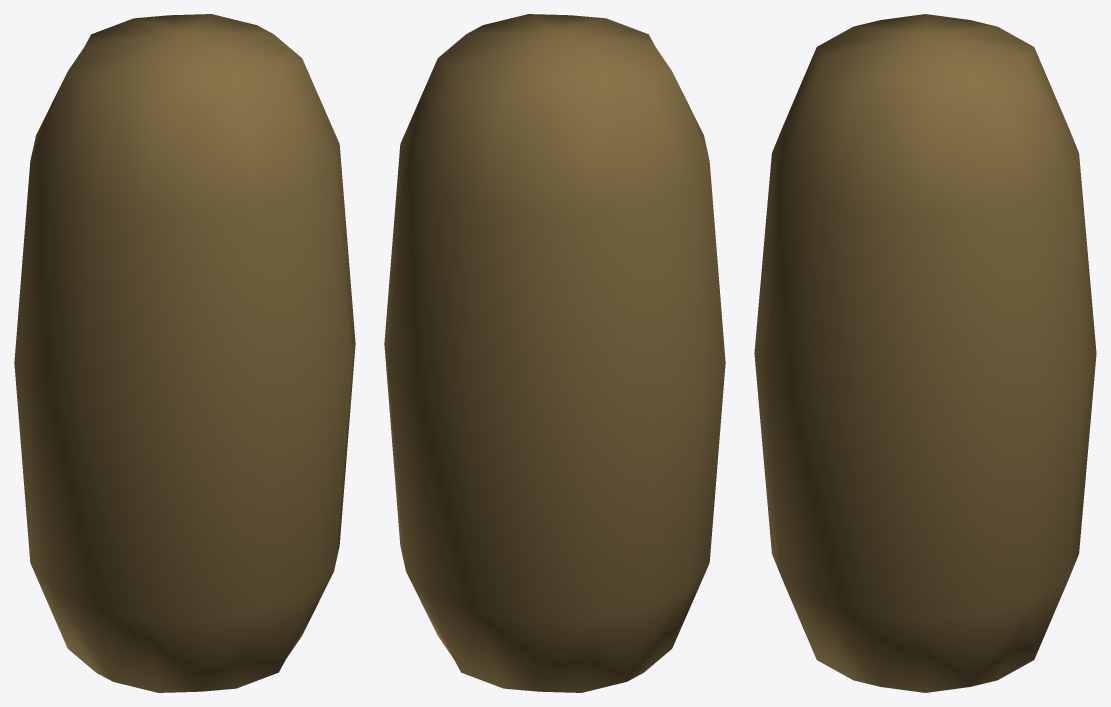
The model's file is shroom leg.fbx.
The picture shows the model from 3 angles, left to right: view 1: azimuth 30°, elevation 25°; view 2: azimuth 150°, elevation 25°; view 3: azimuth 270°, elevation 25°; orthographic projection.
Parts seen in each view (by area): view 1: shroom leg; view 2: shroom leg; view 3: shroom leg.
Part boxes in pixels (x1,y1,x2,y2): shroom leg: [14, 14, 355, 692]; shroom leg: [384, 14, 725, 692]; shroom leg: [754, 14, 1096, 692].
Bounding box in the file's own units: 68.68 × 141 × 68.68.
